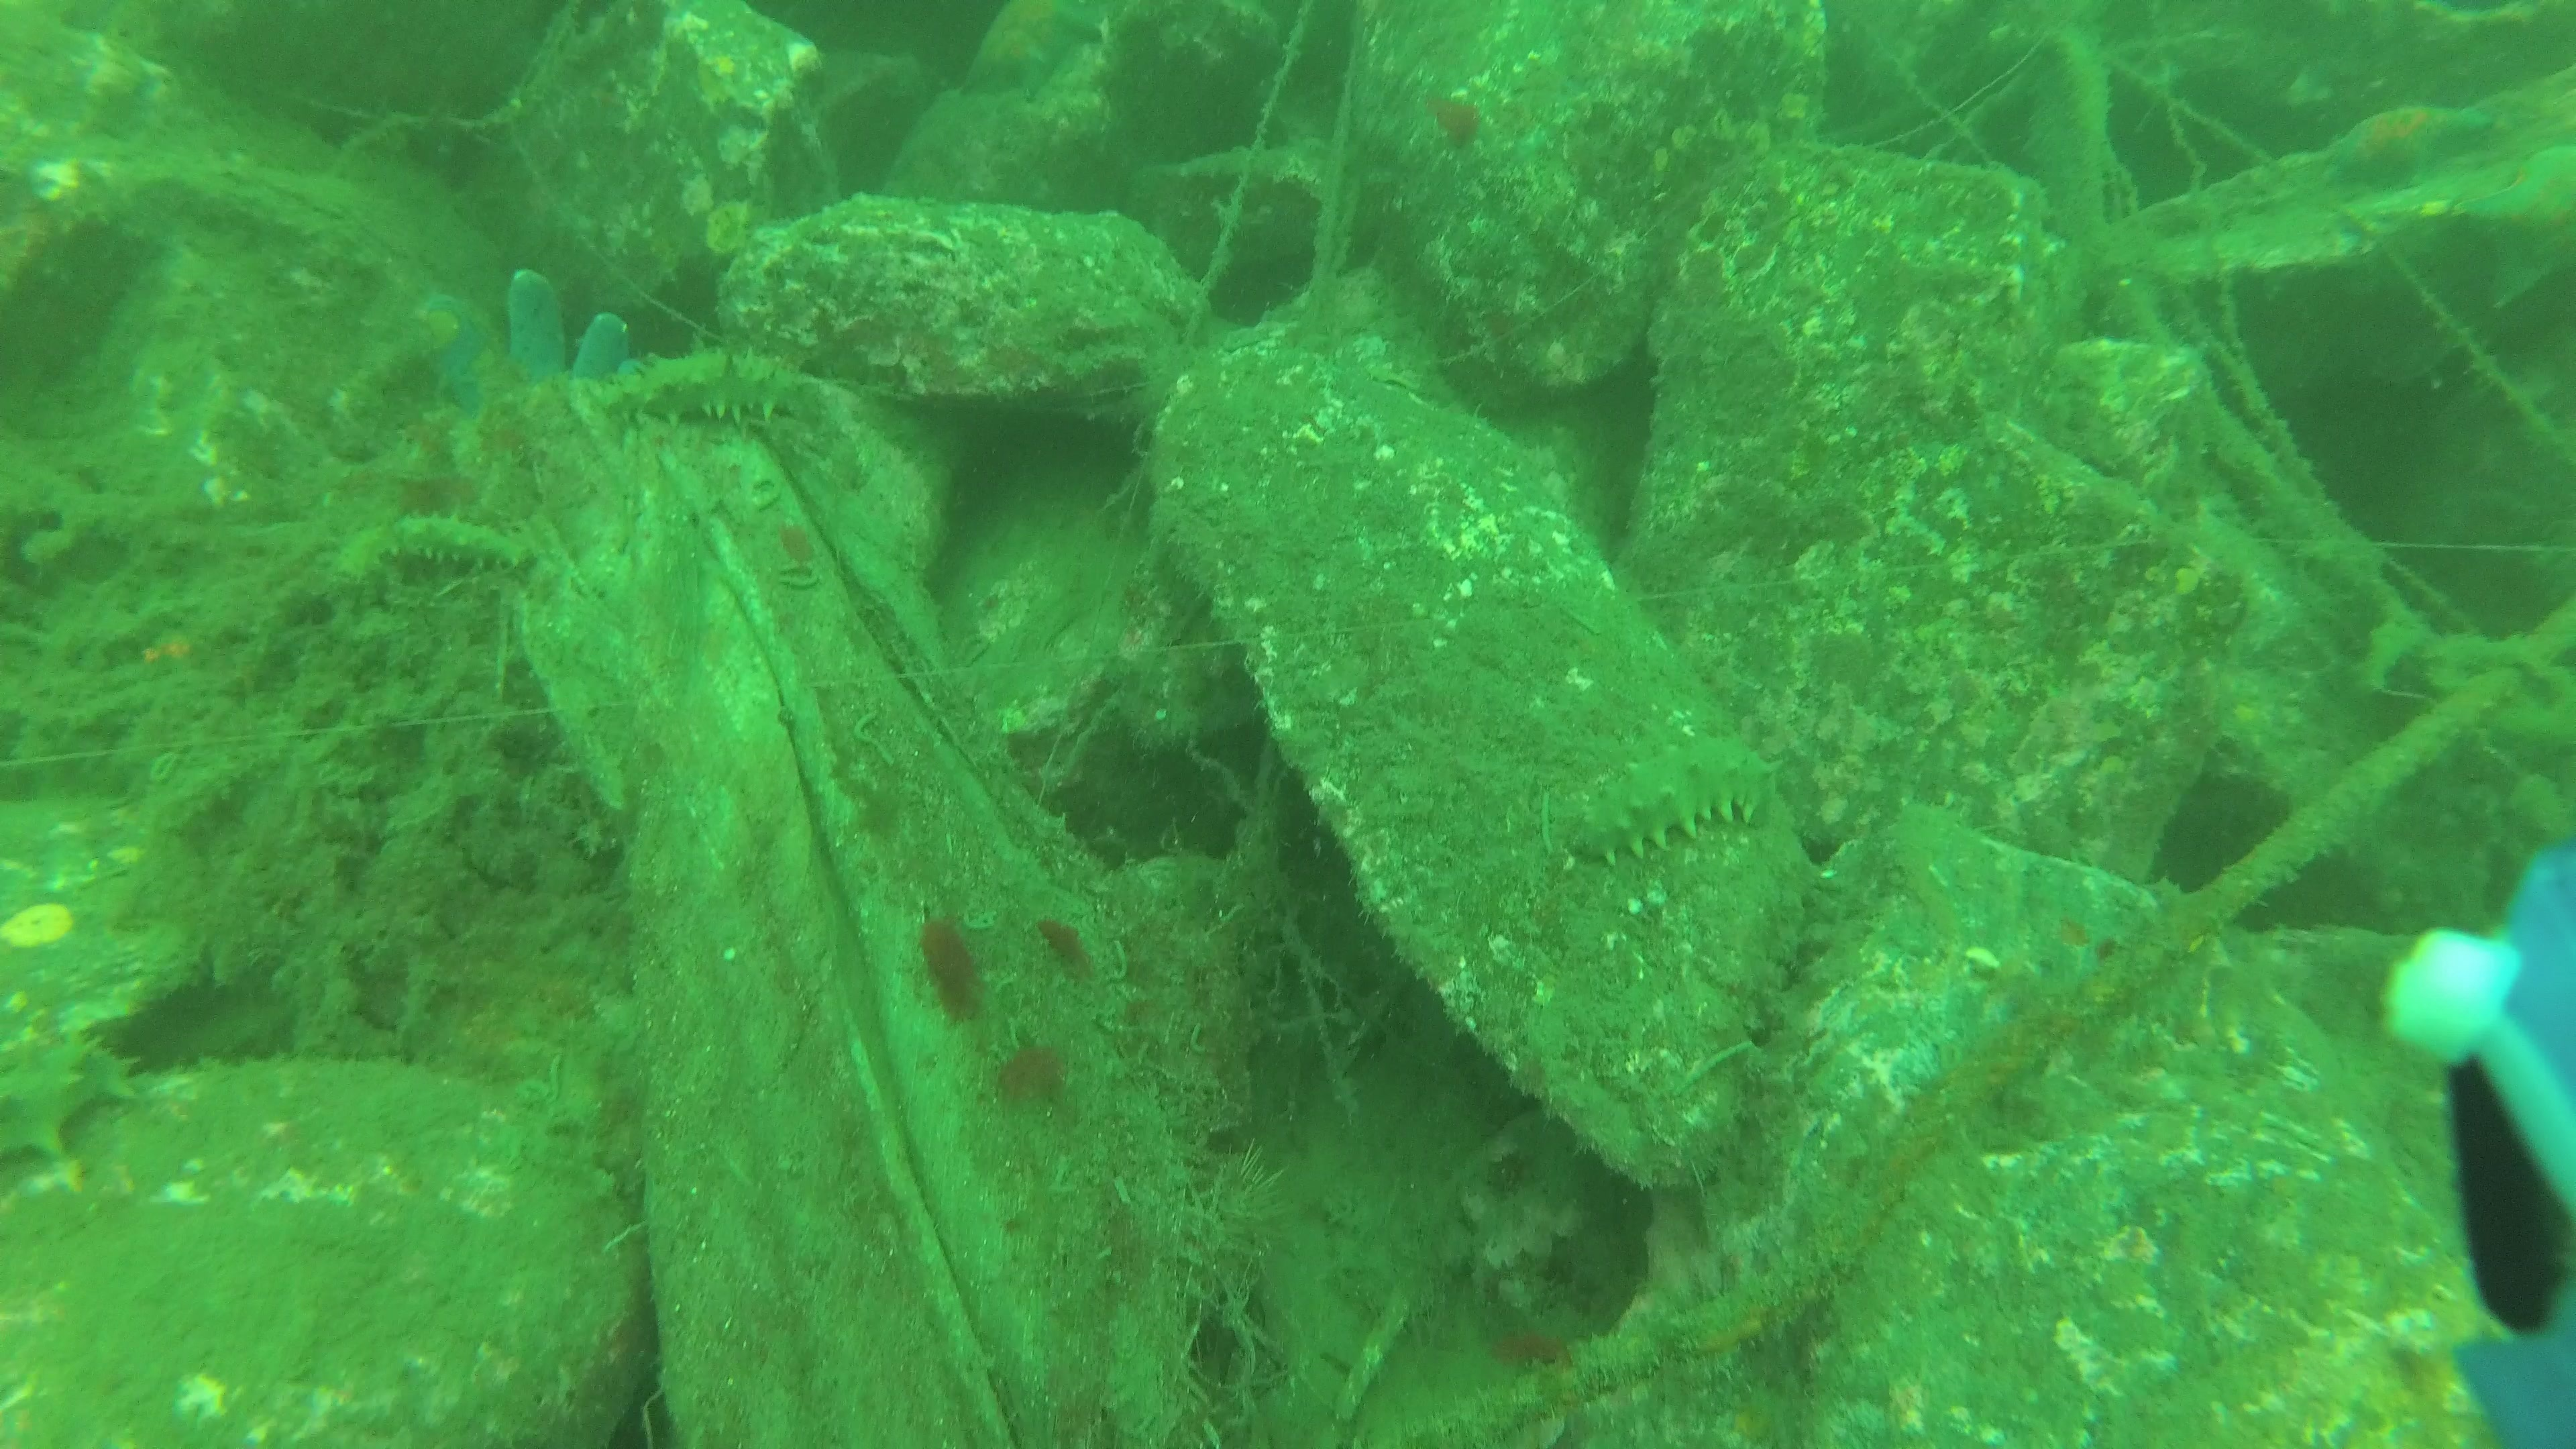holothurian: (1537, 731, 1778, 869), (607, 341, 814, 439), (4, 1030, 138, 1175), (363, 501, 531, 586)
starfish: (2438, 145, 2576, 317), (2307, 96, 2502, 191)
